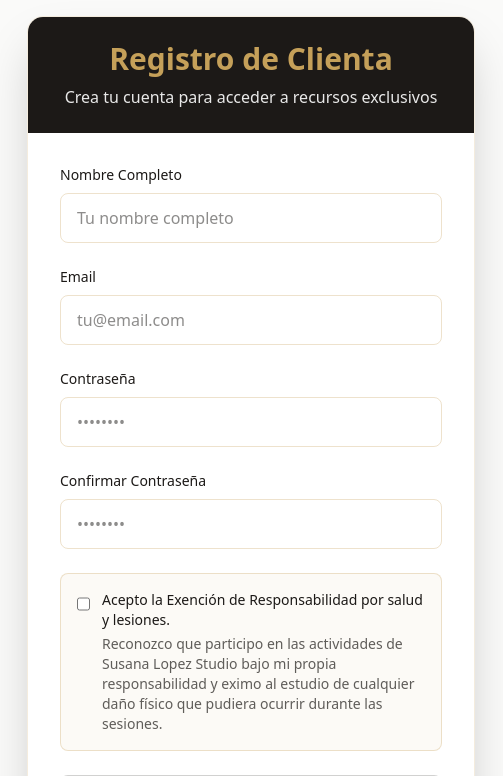
it: Autenticación y Seguridad - Susana Lopez Studio › Registro con Checkbox Legal › debe habilitar el botón "Registrarse" solo cuando el checkbox está marcado
Marcamos el checkbox
Click the checkbox with test id "legal-checkbox" at (84, 604), box [77, 594, 90, 614]
(page scrolled)
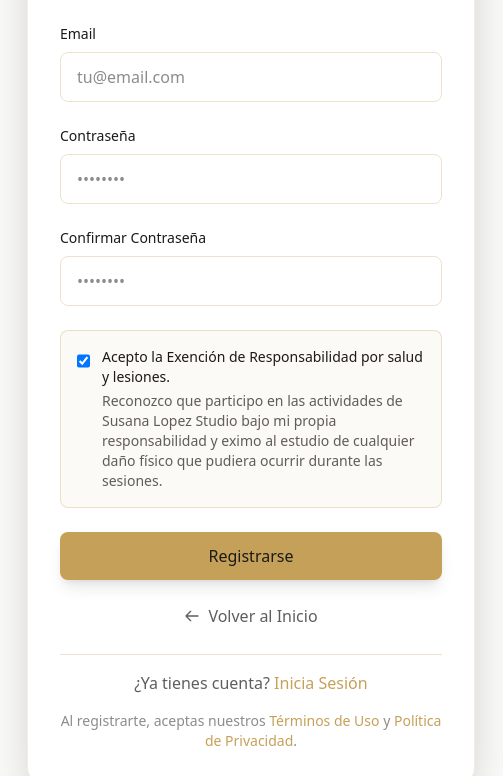
expect the button with test id "register-button" is enabled: met, box [60, 532, 442, 580]
